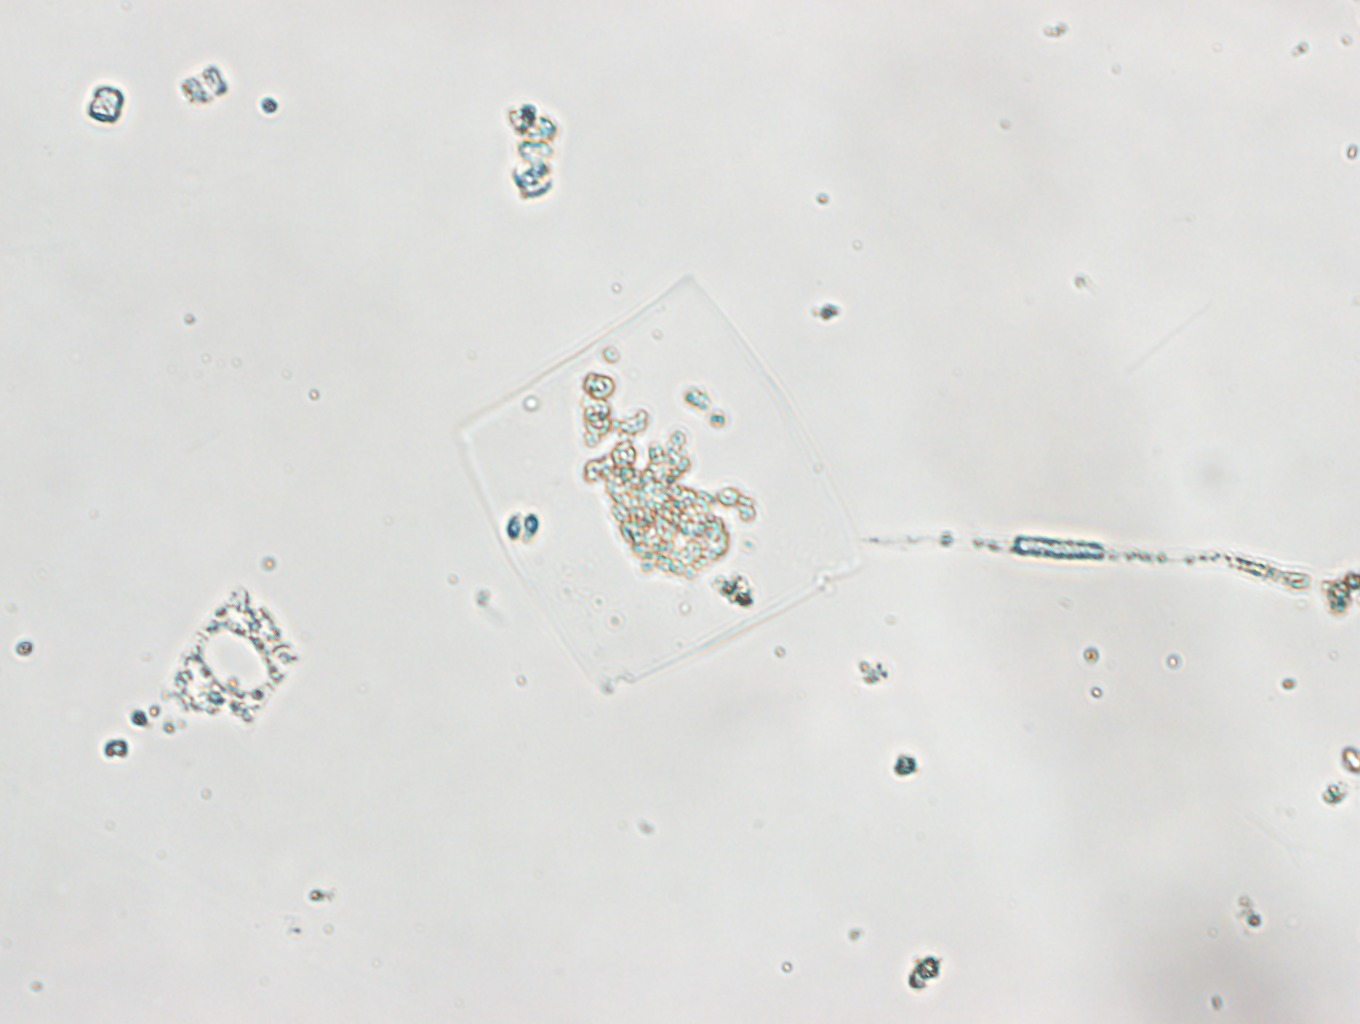eucampia: (169, 585, 301, 728)
helicotheca: (456, 275, 868, 685)
